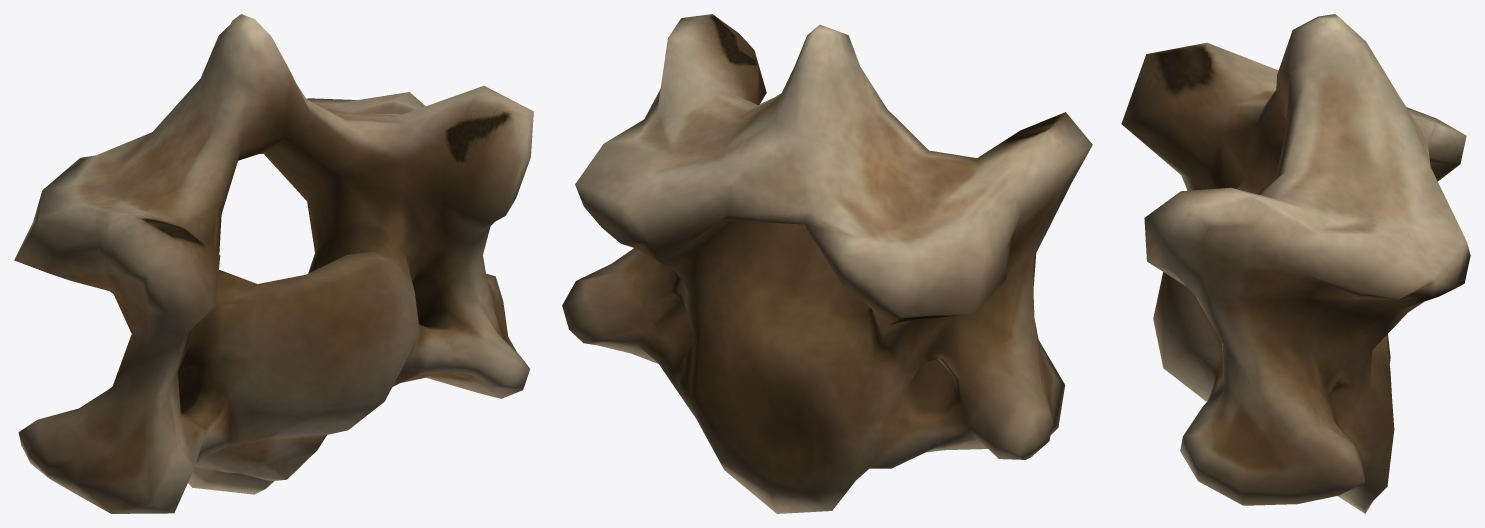
3 views of the same model, side by side, from view 1: azimuth 30°, elevation 25°; view 2: azimuth 150°, elevation 25°; view 3: azimuth 270°, elevation 25° (orthographic). The views are drawn at different scales.
Parts seen in each view (by area): view 1: C10:Group51183; view 2: C10:Group51183; view 3: C10:Group51183.
Part boxes in pixels (<box>): C10:Group51183: <box>14,14,533,513</box>; C10:Group51183: <box>562,14,1092,513</box>; C10:Group51183: <box>1121,14,1470,513</box>.
Size of the model in its own units: 34.13 by 33.87 by 22.14.
1 material, 1 textured.
